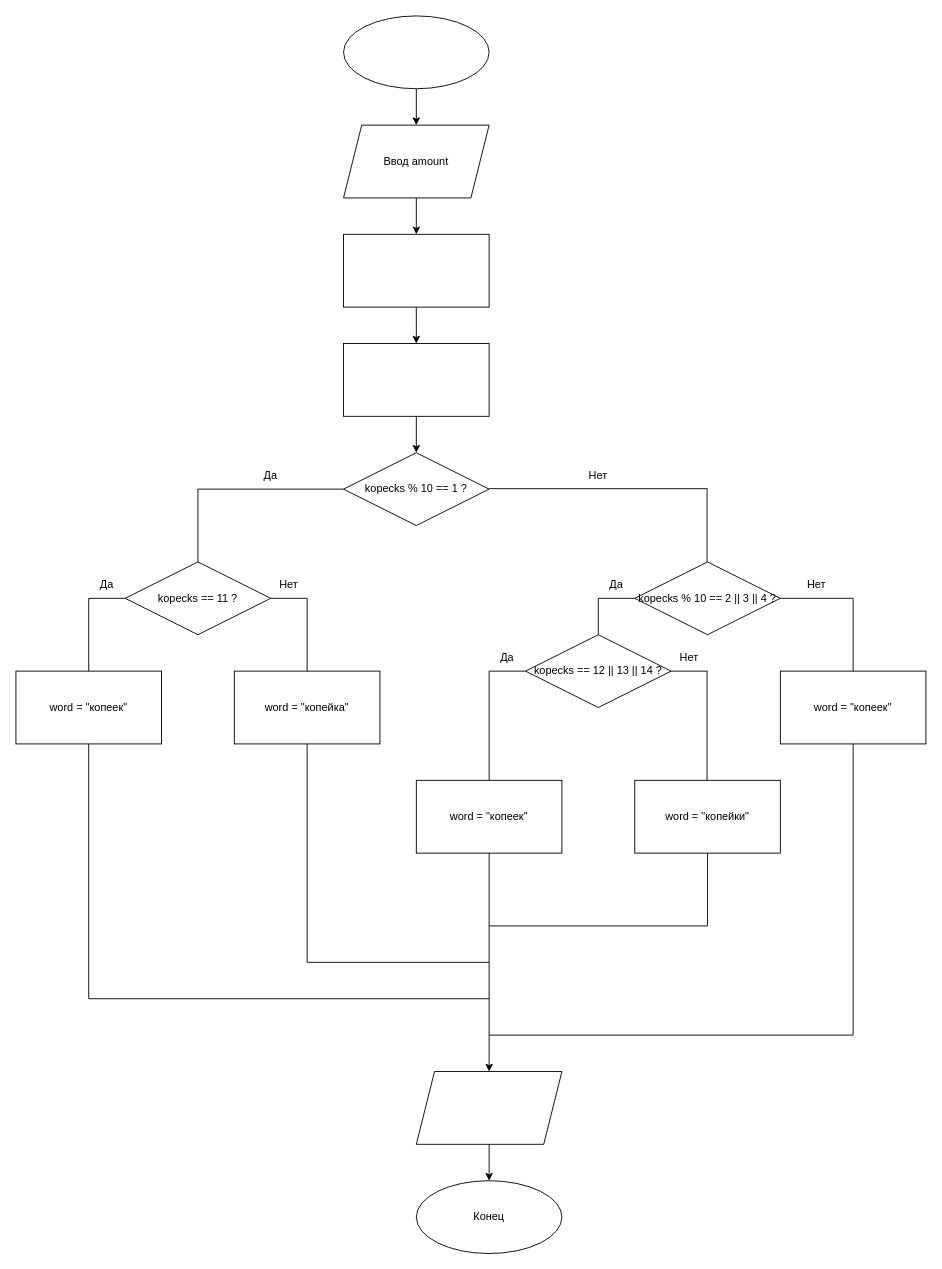
Image size: 942x1269. Some labels were removed from this diagram. The shapes that lost their labels are listed below. From the top down, each one's centre as x and y in pixels, then its label:
At [416,52]: "Начало".
At [416,270]: "rubles = amount / 100".
At [416,379]: "kopecks = amount % 100".
At [488,1107]: "Вывод данных".
